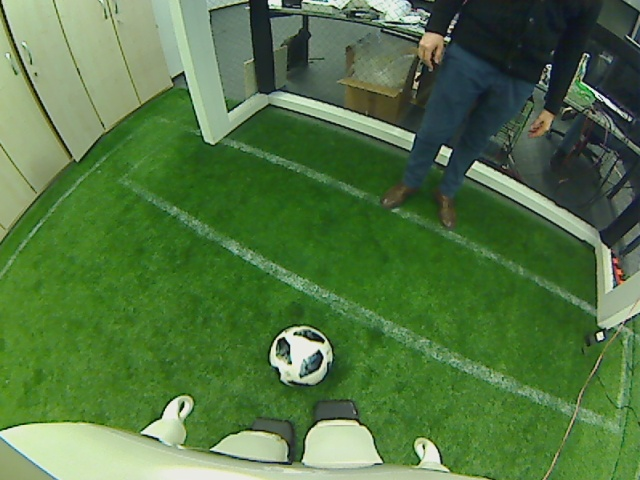ball: (268, 325, 333, 387)
